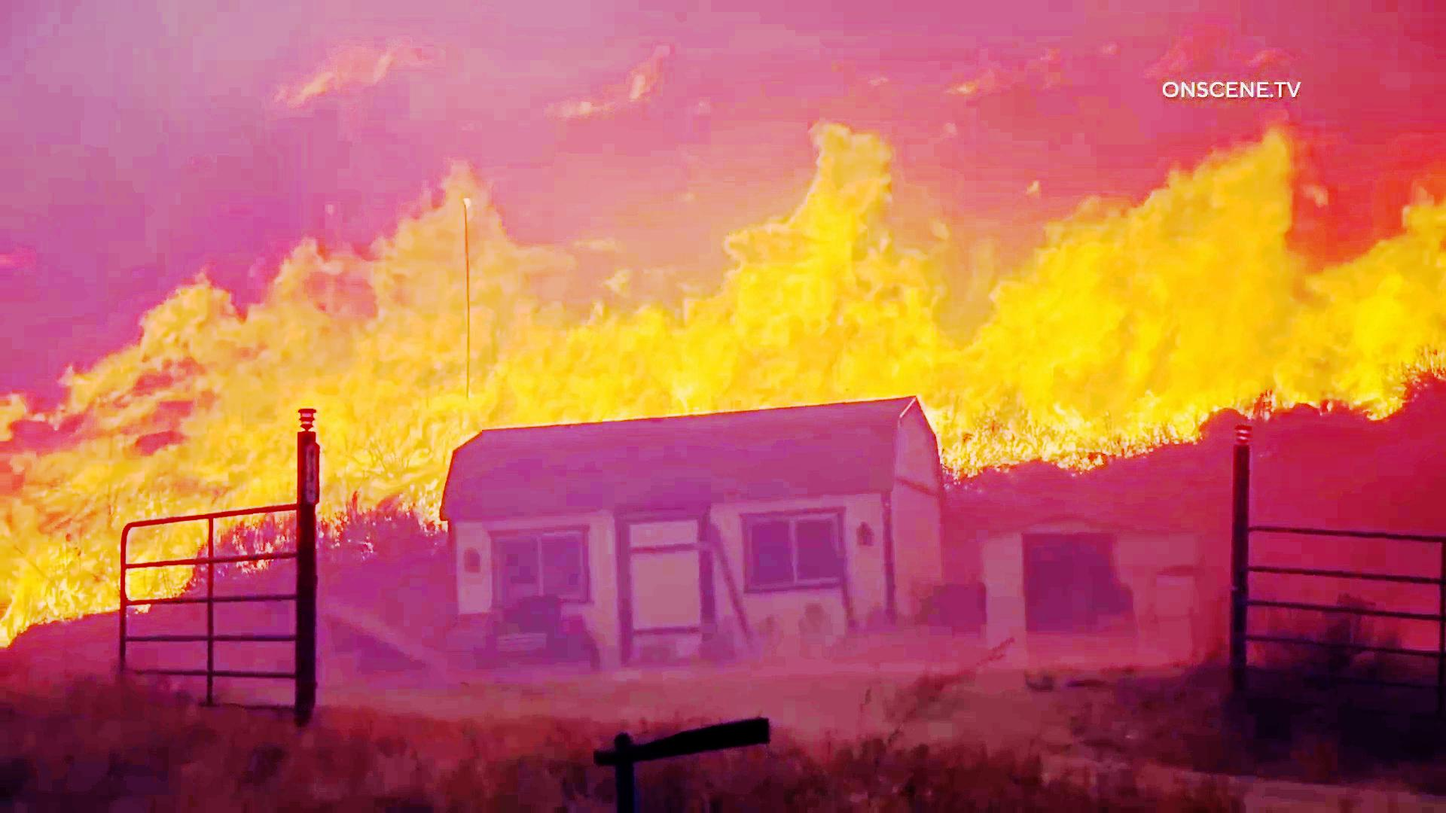fire: (0, 174, 452, 612), (927, 123, 1332, 449), (447, 142, 914, 402)
